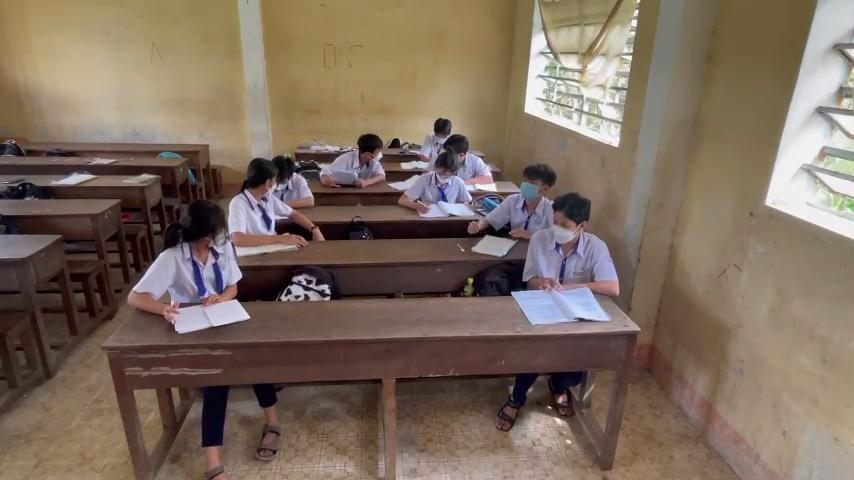Look Around: (165, 196, 230, 256), (231, 150, 283, 204), (337, 123, 389, 177), (504, 151, 556, 204), (539, 190, 591, 243), (448, 174, 471, 211)
